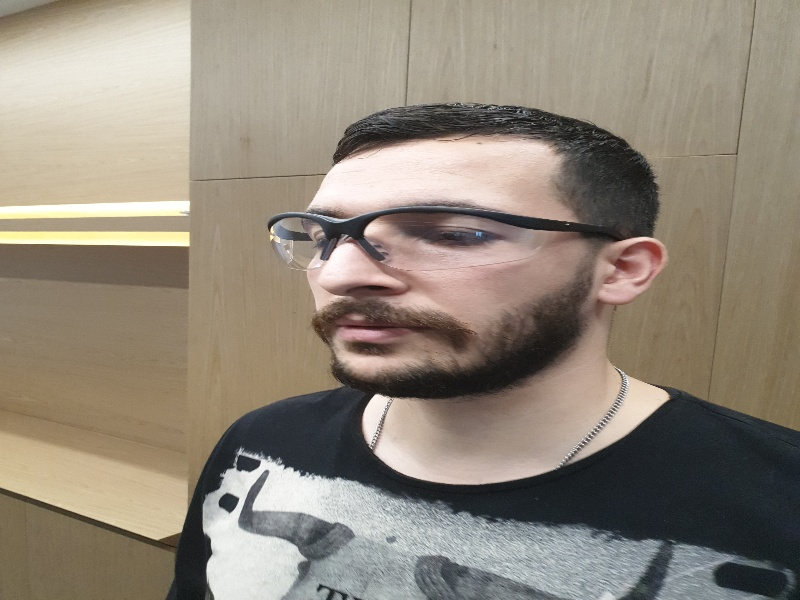Gozluk: (266, 208, 619, 277)
